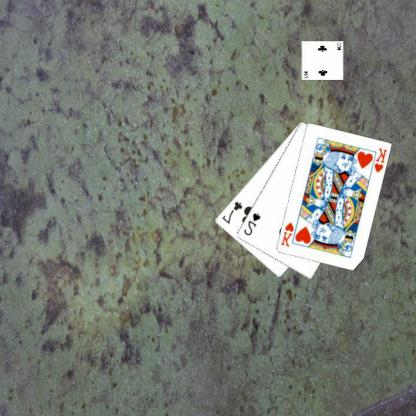2S: (243, 210, 263, 237)
7C: (221, 199, 245, 225)
KH: (373, 146, 390, 174), (280, 220, 296, 248)
